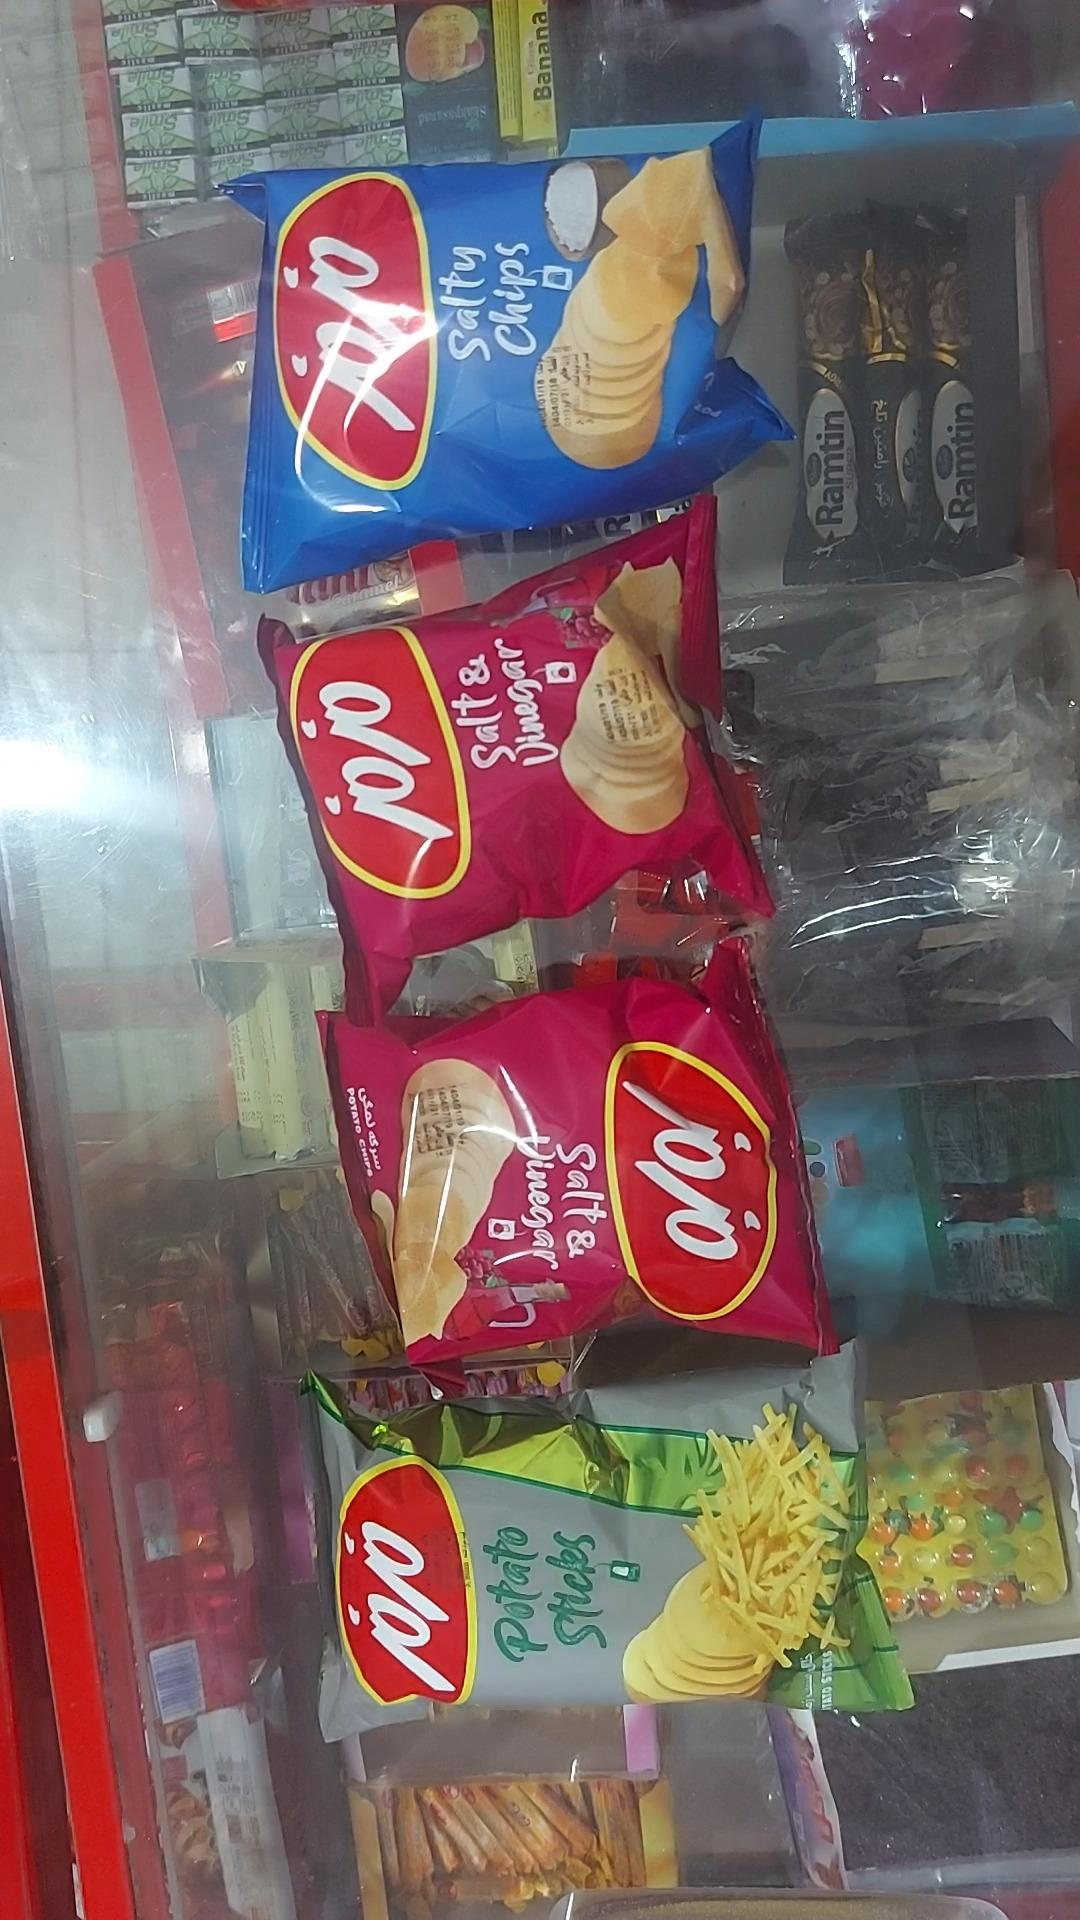Maz Maz potato sticks: (305, 1357, 910, 1738)
Maz Maz salty chips: (227, 123, 791, 593)
Maz Maz vinegar chips: (257, 502, 781, 1019), (318, 938, 835, 1377)
